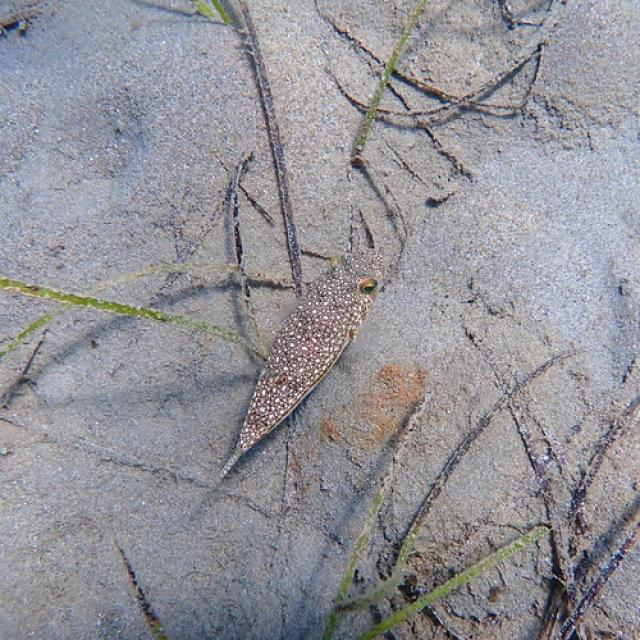Balik: (219, 250, 383, 479)
